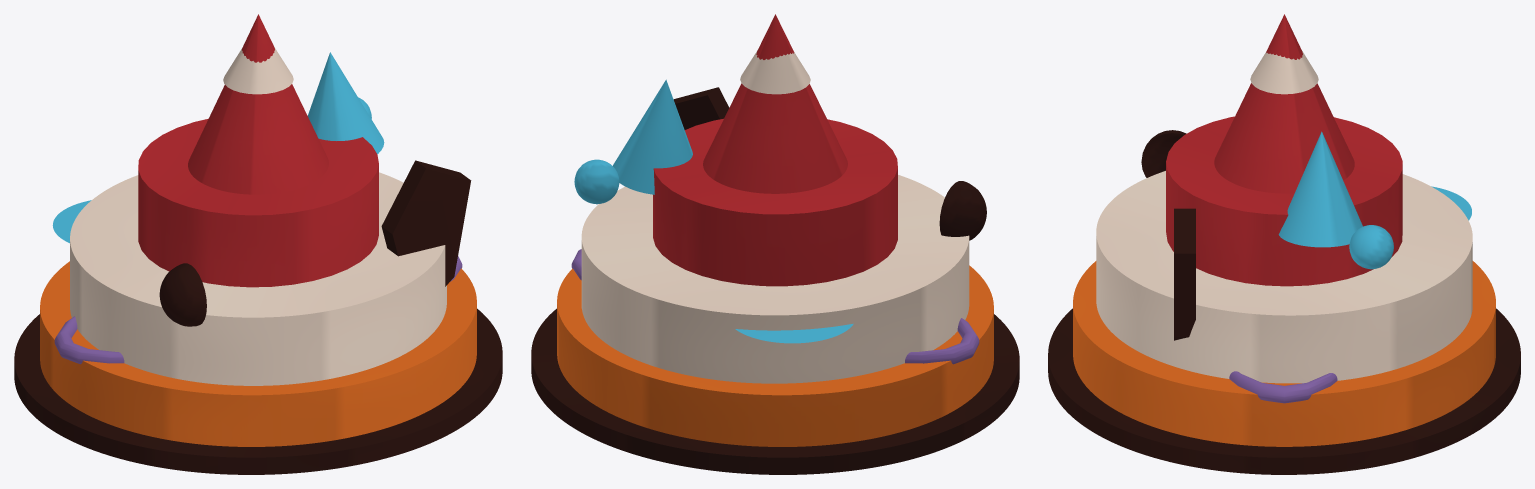
Rendered from 0628_地貌图鉴_维苏威火山.glb.
3 renders of one model, left to right at view 1: azimuth 30°, elevation 25°; view 2: azimuth 150°, elevation 25°; view 3: azimuth 270°, elevation 25°, orthographic.
Parts seen in each view (by area): view 1: card_0628; view 2: card_0628; view 3: card_0628.
Part boxes in pixels (x1,y1,x2,y2): card_0628: [14, 14, 502, 474]; card_0628: [531, 14, 1019, 474]; card_0628: [1048, 14, 1520, 474].
Size of the model in its own units: 1.24 by 1 by 1.2.
